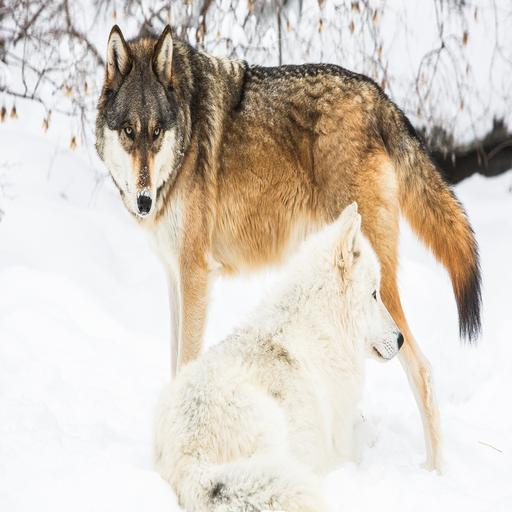Wolf: (87, 7, 512, 483), (150, 200, 405, 512)
